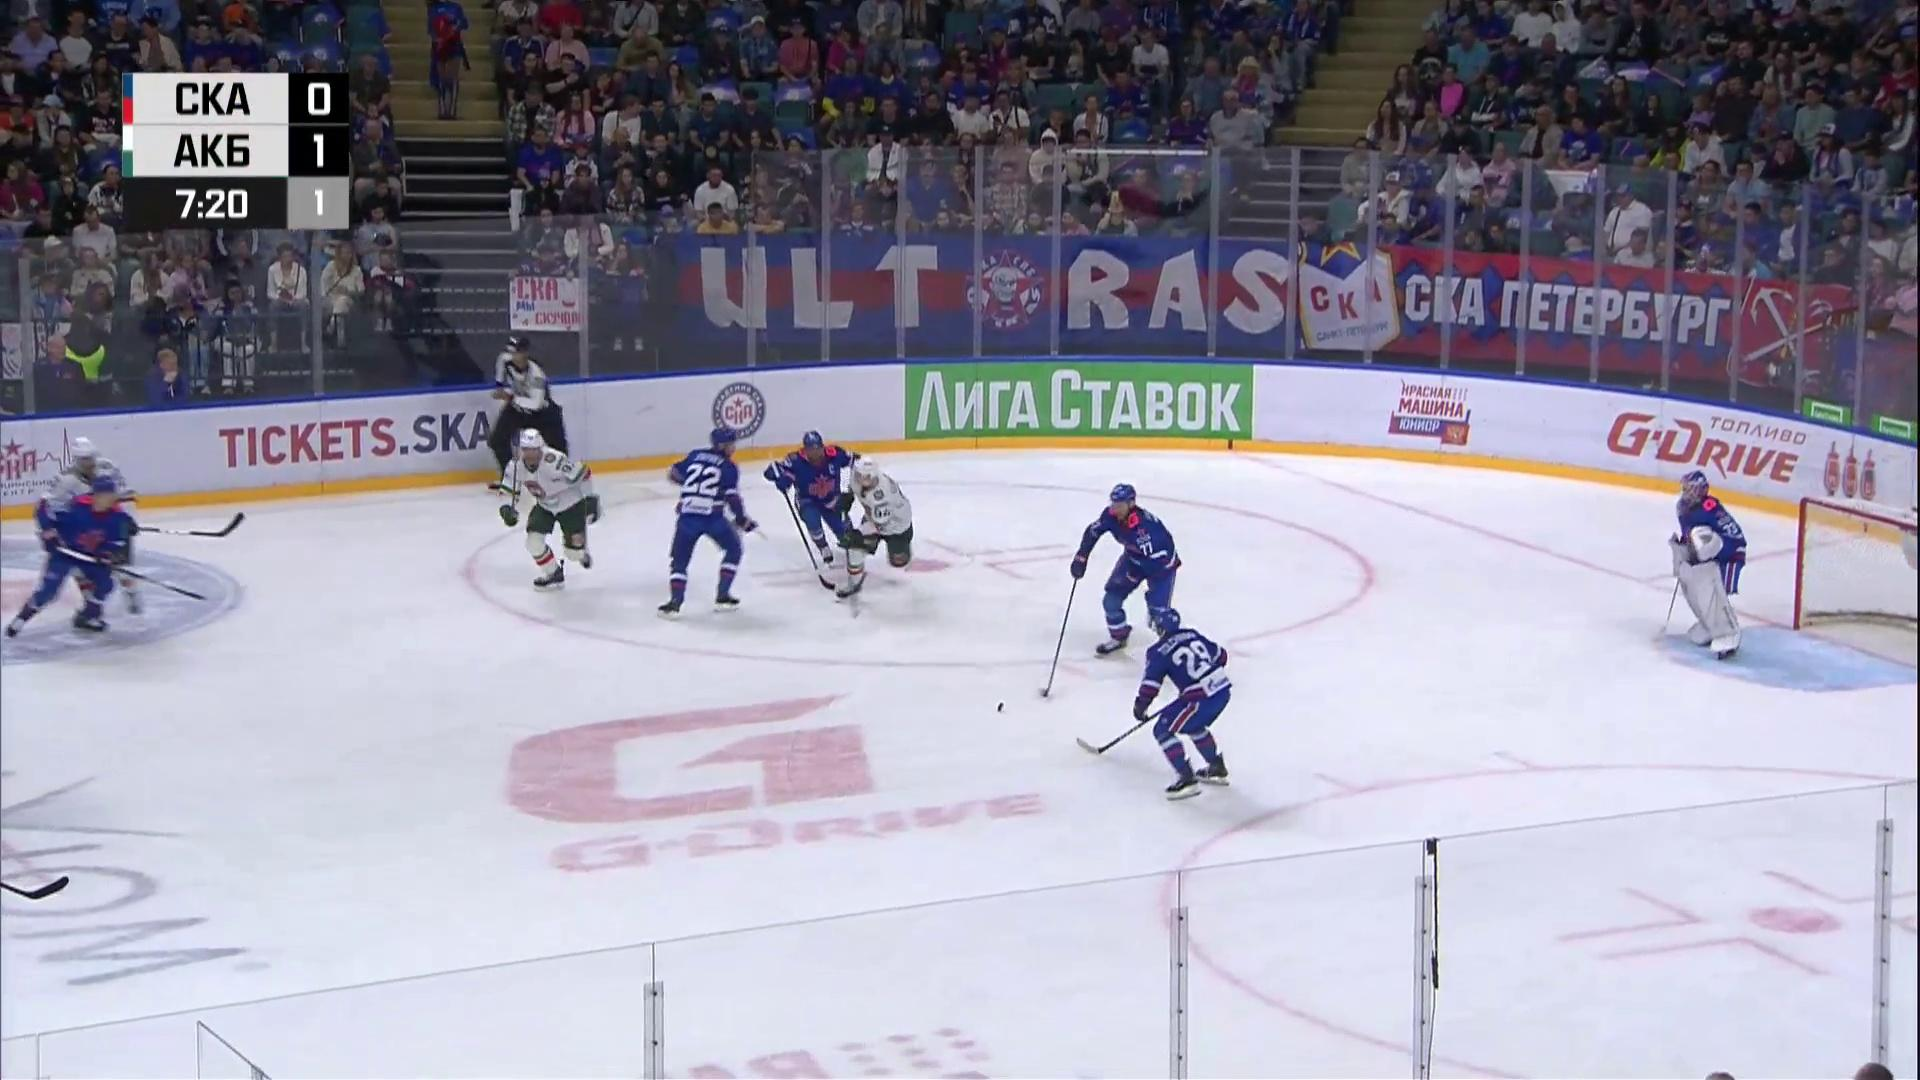ball: (997, 702, 1005, 712)
